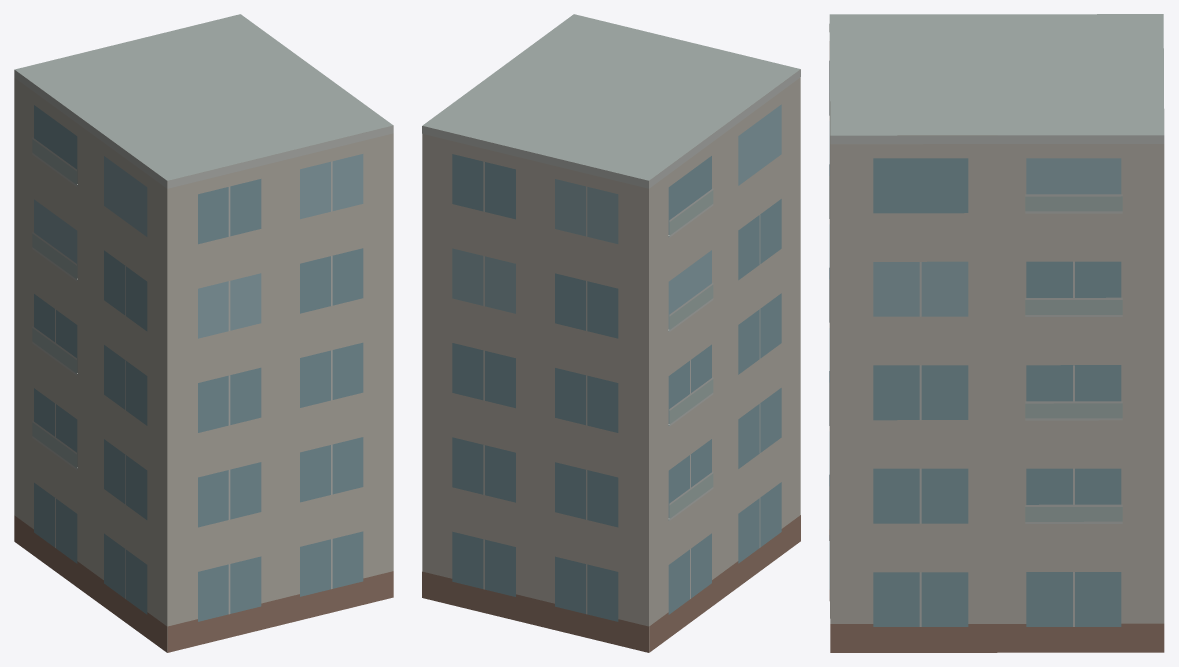
File: survey-upis-32908900.glb
The picture shows the model from 3 angles, left to right: view 1: azimuth 30°, elevation 25°; view 2: azimuth 150°, elevation 25°; view 3: azimuth 270°, elevation 25°; orthographic projection. The views are drawn at different scales.
Visible parts, largest first — view 1: survey-upis-32908900.tmp; view 2: survey-upis-32908900.tmp; view 3: survey-upis-32908900.tmp.
Boxes of the visible parts, bbox=[...] form: survey-upis-32908900.tmp: bbox=[14, 14, 393, 652]; survey-upis-32908900.tmp: bbox=[422, 14, 800, 652]; survey-upis-32908900.tmp: bbox=[829, 14, 1164, 652].
Size of the model in its own units: 7.34 by 14.45 by 8.48.
